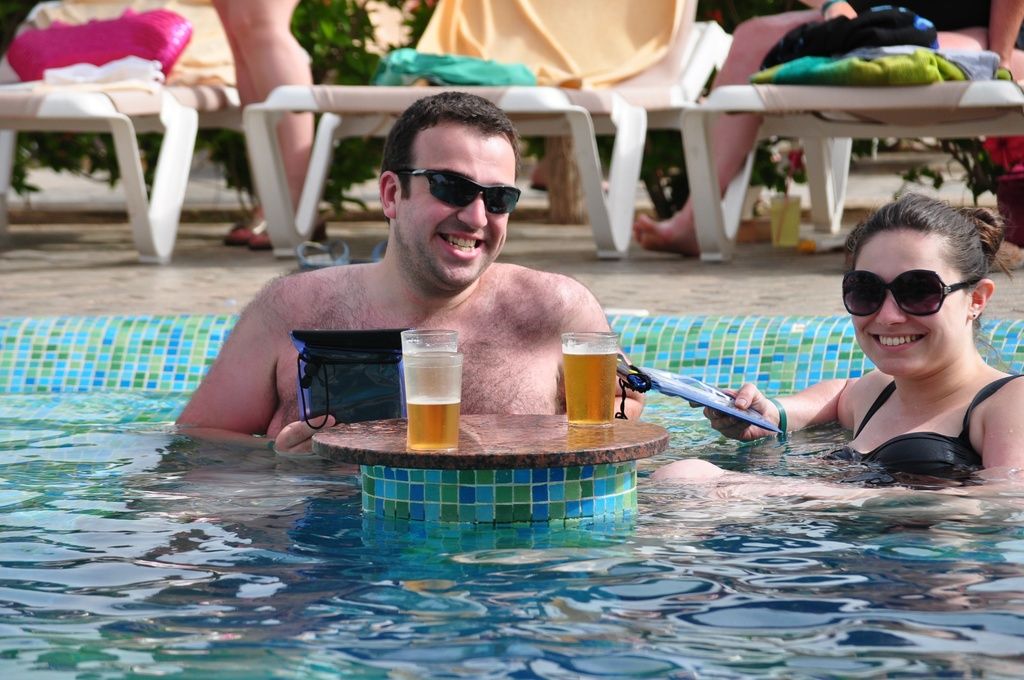Beer: (562, 344, 613, 425), (403, 393, 460, 450)
